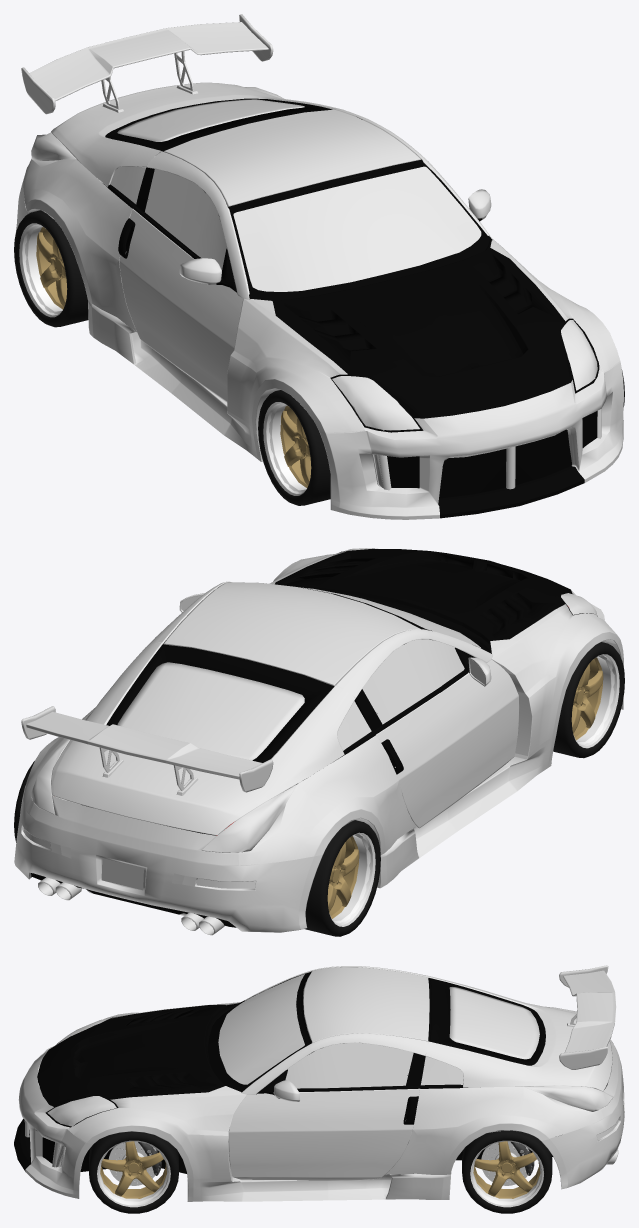
3 renders of one model, top to bottom at view 1: azimuth 30°, elevation 25°; view 2: azimuth 150°, elevation 25°; view 3: azimuth 270°, elevation 25°, orthographic. The views are drawn at different scales.
Parts seen in each view (by area): view 1: KITW02_BODY_A.007, STYLE07_HOOD_A, KITW02_DOOR_LEFT_A.001, KITW02_BODY_A.002, STYLE02_HEADLIGHT_LEFT_A.002, GROUP01_KIT01_WHEEL_TIRE_FRONT_A.001, GROUP01_KIT01_WHEEL_TIRE_FRONT_A, KITW02_BODY_A.005, STYLE01_BRAKELIGHT_A.001, KITW01_WIDEBODY_A, SPOILER_STYLE02_A; view 2: KITW02_BODY_A.007, KITW02_DOOR_LEFT_A.001, STYLE07_HOOD_A, GROUP01_KIT01_WHEEL_TIRE_FRONT_A.001, KITW02_BODY_A.002, GROUP01_KIT01_WHEEL_TIRE_FRONT_A, STYLE02_HEADLIGHT_LEFT_A.002, STYLE01_BRAKELIGHT_A.001, KITW01_WIDEBODY_A, KIT00_EXHAUST_A, Plane, KIT00_TRUNK_A.001 (+2 smaller); view 3: KITW02_BODY_A.007, KITW02_DOOR_LEFT_A.001, STYLE07_HOOD_A, GROUP01_KIT01_WHEEL_TIRE_FRONT_A.001, GROUP01_KIT01_WHEEL_TIRE_FRONT_A, KITW02_BODY_A.002, STYLE02_HEADLIGHT_LEFT_A.002, STYLE01_BRAKELIGHT_A.001, KITW01_WIDEBODY_A, brake_disk_1_metal_1_brake_disk_0.001, brake_disk_1_metal_1_brake_disk_0.004, KIT00_TRUNK_A.001 (+1 smaller).
Boxes of the visible parts, x1,y1,x2,y2 form: KITW02_BODY_A.007: (15, 82, 623, 519); STYLE07_HOOD_A: (272, 248, 584, 518); KITW02_DOOR_LEFT_A.001: (110, 99, 481, 291); KITW02_BODY_A.002: (21, 14, 273, 114); STYLE02_HEADLIGHT_LEFT_A.002: (108, 99, 599, 432); GROUP01_KIT01_WHEEL_TIRE_FRONT_A.001: (14, 210, 88, 327); GROUP01_KIT01_WHEEL_TIRE_FRONT_A: (258, 370, 624, 505); KITW02_BODY_A.005: (387, 411, 597, 498); STYLE01_BRAKELIGHT_A.001: (31, 87, 597, 430); KITW01_WIDEBODY_A: (107, 117, 492, 299); SPOILER_STYLE02_A: (101, 51, 197, 112); KITW02_BODY_A.007: (14, 551, 623, 932); KITW02_DOOR_LEFT_A.001: (117, 587, 480, 760); STYLE07_HOOD_A: (275, 549, 572, 644); GROUP01_KIT01_WHEEL_TIRE_FRONT_A.001: (14, 761, 380, 936); KITW02_BODY_A.002: (21, 706, 273, 792); GROUP01_KIT01_WHEEL_TIRE_FRONT_A: (553, 642, 624, 758); STYLE02_HEADLIGHT_LEFT_A.002: (109, 548, 597, 762); STYLE01_BRAKELIGHT_A.001: (31, 548, 597, 852); KITW01_WIDEBODY_A: (161, 592, 491, 774); KIT00_EXHAUST_A: (38, 877, 224, 935); Plane: (101, 858, 143, 890); KIT00_TRUNK_A.001: (106, 644, 334, 761); KITW02_BODY_A.007: (18, 966, 624, 1201); KITW02_DOOR_LEFT_A.001: (218, 974, 539, 1088); STYLE07_HOOD_A: (14, 1004, 226, 1171); GROUP01_KIT01_WHEEL_TIRE_FRONT_A.001: (462, 1130, 552, 1213); GROUP01_KIT01_WHEEL_TIRE_FRONT_A: (89, 1131, 178, 1213); KITW02_BODY_A.002: (559, 965, 616, 1069); STYLE02_HEADLIGHT_LEFT_A.002: (45, 972, 543, 1127); STYLE01_BRAKELIGHT_A.001: (47, 1006, 612, 1126); KITW01_WIDEBODY_A: (206, 971, 462, 1124); brake_disk_1_metal_1_brake_disk_0.001: (481, 1141, 534, 1185); brake_disk_1_metal_1_brake_disk_0.004: (108, 1141, 161, 1185); KIT00_TRUNK_A.001: (428, 978, 545, 1065).
Size of the model in its own units: 196 by 127 by 436.
